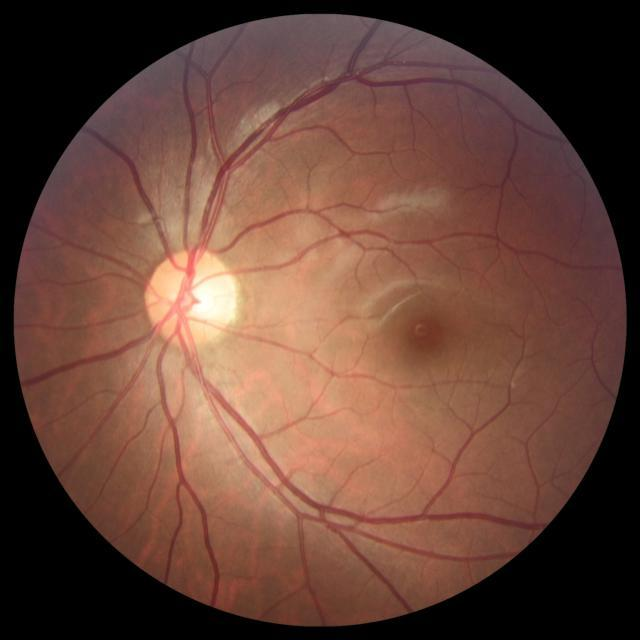OC: (174, 275, 222, 321)
OD: (144, 250, 238, 346)
